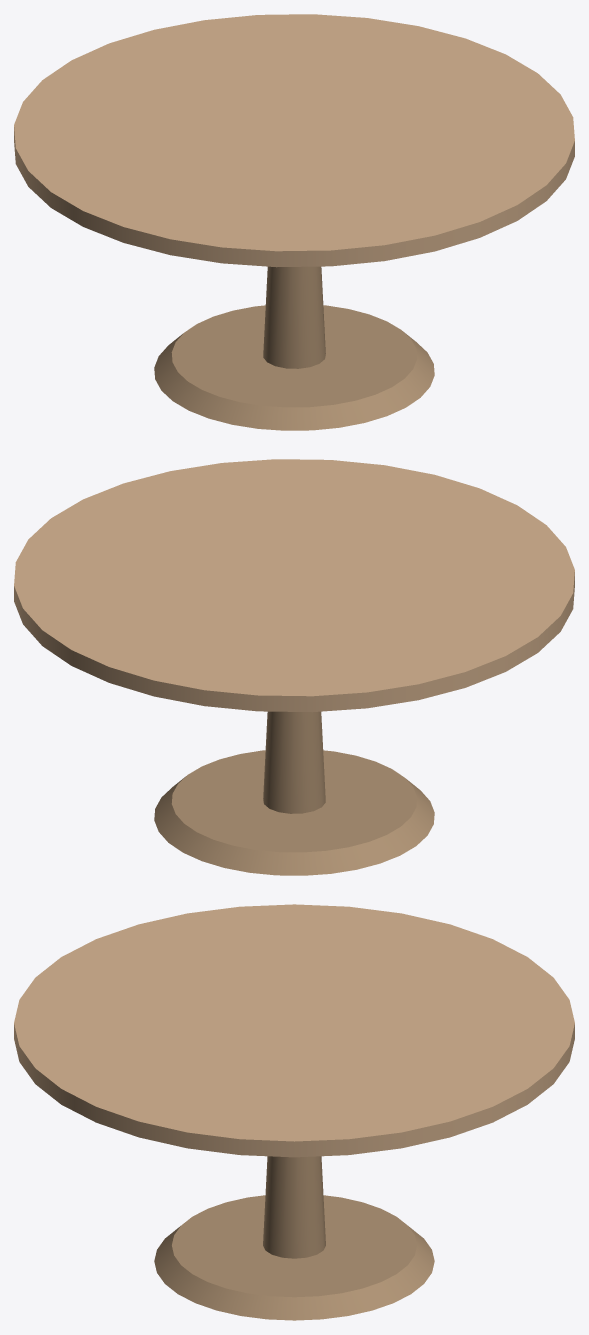
The model's file is table.glb.
3 views of the same model, one above another, from view 1: azimuth 30°, elevation 25°; view 2: azimuth 150°, elevation 25°; view 3: azimuth 270°, elevation 25° (orthographic).
Parts seen in each view (by area): view 1: table; view 2: table; view 3: table.
Part boxes in pixels (x1=…): table: x1=14, y1=14, x2=574, y2=430; table: x1=14, y1=459, x2=574, y2=875; table: x1=14, y1=904, x2=574, y2=1320.
Bounding box in the file's own units: 1.6 × 0.75 × 1.6.
